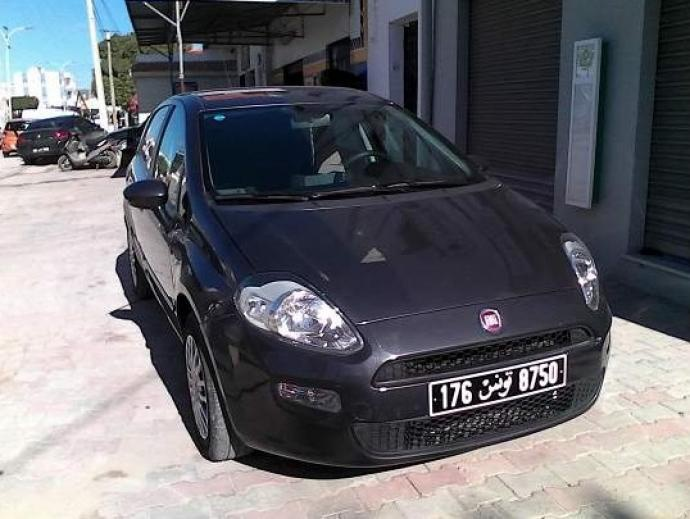LP: (426, 350, 570, 418)
